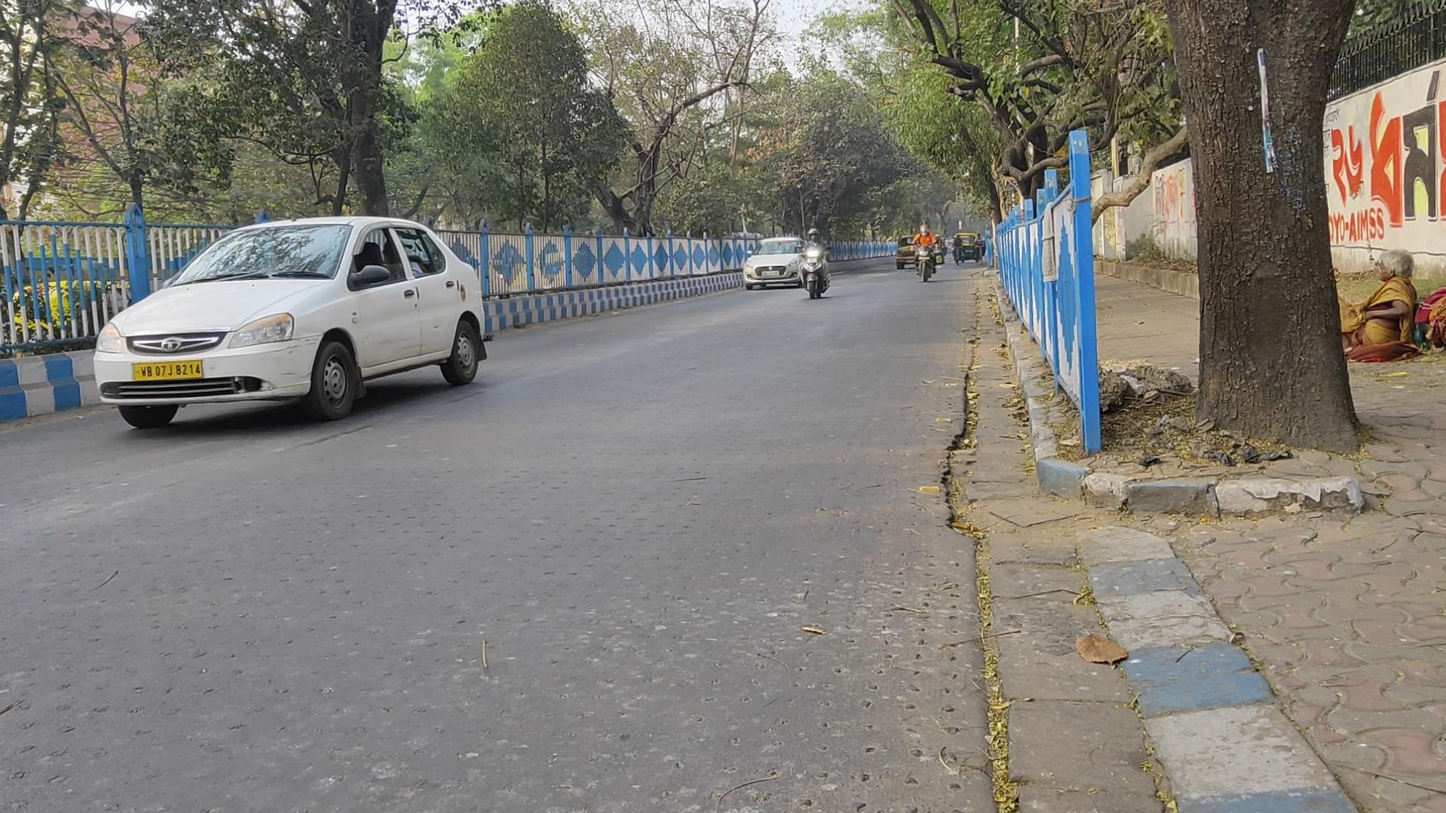Auto: (953, 232, 978, 262)
bike: (798, 226, 831, 301), (913, 224, 938, 283), (973, 232, 985, 267), (953, 234, 964, 266)
car: (93, 215, 495, 429), (743, 236, 804, 291), (895, 233, 936, 269)
